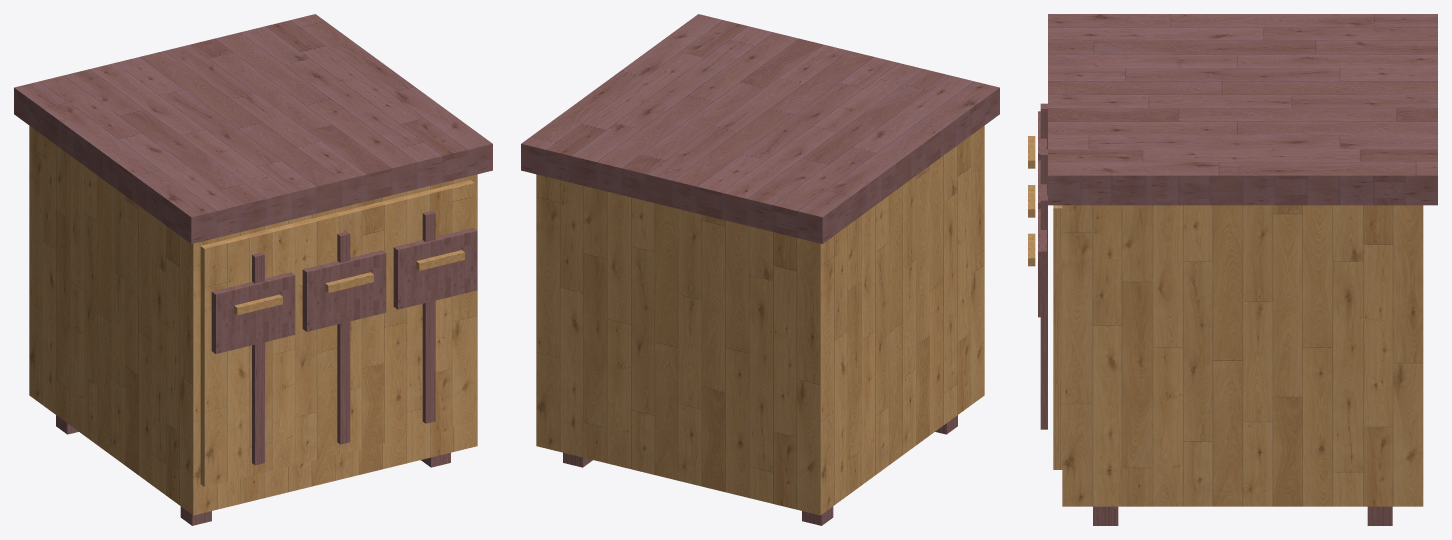
File: island.gltf
3 views of the same model, side by side, from view 1: azimuth 30°, elevation 25°; view 2: azimuth 150°, elevation 25°; view 3: azimuth 270°, elevation 25° (orthographic). The views are drawn at different scales.
Visible parts, largest first — view 1: top, body, front, drawer_0, drawer_-0.32, drawer_0.32, slat2, slat3, slat1; view 2: body, top; view 3: body, top, front, slat3, drawer_0.32, foot_1, foot_3.
Boxes of the visible parts, x1,y1,x2,y2 form: top: (14, 14, 492, 243); body: (29, 126, 477, 515); front: (200, 180, 474, 486); drawer_0: (302, 250, 386, 331); drawer_-0.32: (211, 272, 295, 353); drawer_0.32: (393, 228, 477, 309); slat2: (337, 231, 350, 444); slat3: (422, 210, 435, 423); slat1: (252, 252, 264, 465); body: (536, 126, 984, 515); top: (521, 14, 999, 243); body: (1062, 205, 1423, 506); top: (1048, 14, 1437, 205); front: (1053, 205, 1062, 469); slat3: (1040, 195, 1047, 429); drawer_0.32: (1038, 209, 1046, 317); foot_1: (1367, 506, 1392, 525); foot_3: (1093, 506, 1118, 525).
Bounding box in the file's own units: 1.06 × 1.1 × 1.14.
Materials: 3 (3 with a texture image).
